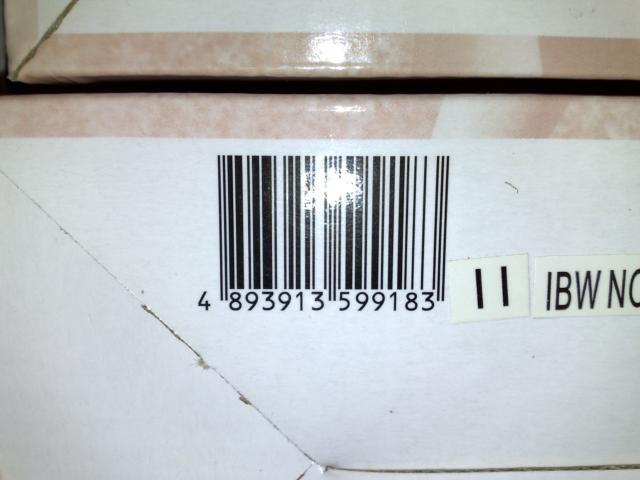Barcode: (191, 145, 462, 323)
